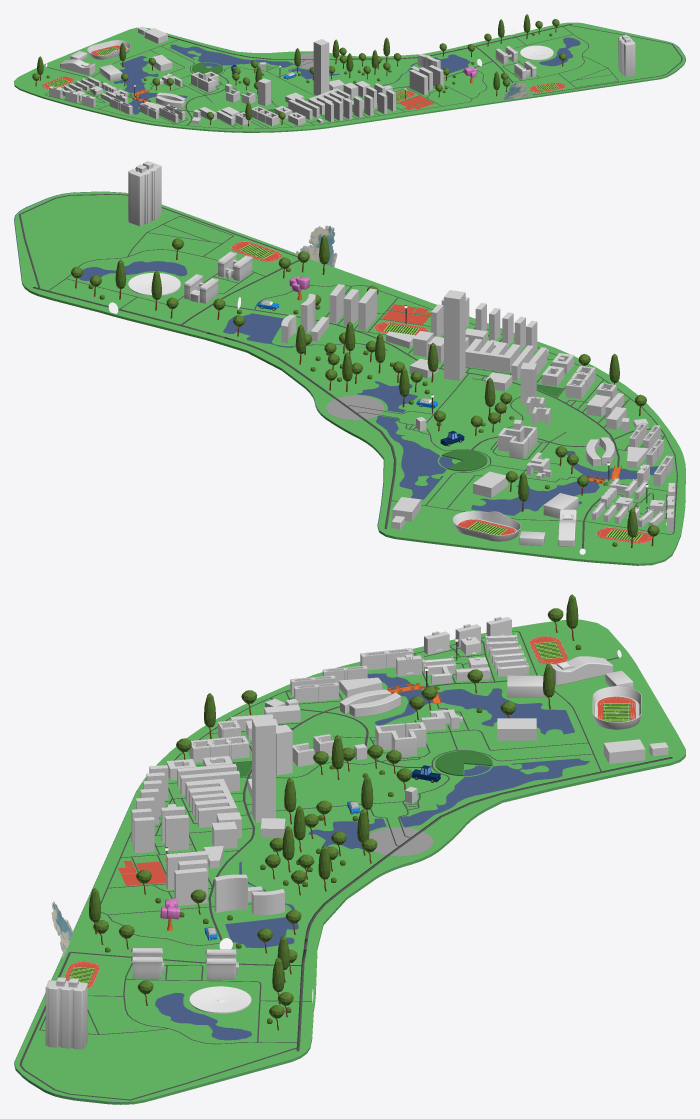
The model's file is map.glb.
The picture shows the model from 3 angles, top to bottom: view 1: azimuth 30°, elevation 25°; view 2: azimuth 150°, elevation 25°; view 3: azimuth 270°, elevation 25°; orthographic projection. The views are drawn at different scales.
Parts seen in each view (by area): view 1: grassFloor, grassFloor.001, map_2.osm_roads_service, 图书馆, 人才公寓1栋, map_2.osm_roads_residential, map_2.osm_roads_primary, 基础实验大楼, 白帆运动场, 月亮湖, 白求恩广场, 游泳馆 (+18 smaller); view 2: grassFloor, grassFloor.001, map_2.osm_roads_service, 人才公寓1栋, 图书馆, map_2.osm_roads_residential, 基础实验大楼, 白帆运动场, map_2.osm_roads_primary, 学府大道正门, 月亮湖, 白求恩广场 (+11 smaller); view 3: grassFloor, grassFloor.001, map_2.osm_roads_service, 人才公寓1栋, 图书馆, 基础实验大楼, map_2.osm_roads_residential, 月亮湖, map_2.osm_roads_primary, 学府大道正门, 白求恩广场, 慧源楼 (+19 smaller).
Boxes of the visible parts, left/top/right/bottom form: grassFloor: left=14, top=22, right=685, bottom=132; grassFloor.001: left=113, top=24, right=685, bottom=114; map_2.osm_roads_service: left=45, top=26, right=618, bottom=128; 图书馆: left=313, top=39, right=329, bottom=95; 人才公寓1栋: left=618, top=35, right=635, bottom=76; map_2.osm_roads_residential: left=47, top=25, right=682, bottom=125; map_2.osm_roads_primary: left=168, top=24, right=572, bottom=59; 基础实验大楼: left=308, top=88, right=350, bottom=114; 白帆运动场: left=87, top=40, right=130, bottom=59; 月亮湖: left=539, top=37, right=580, bottom=66; 白求恩广场: left=520, top=45, right=553, bottom=60; 游泳馆: left=60, top=59, right=95, bottom=75; grassFloor: left=14, top=191, right=685, bottom=565; grassFloor.001: left=14, top=191, right=658, bottom=530; map_2.osm_roads_service: left=48, top=216, right=677, bottom=534; 人才公寓1栋: left=128, top=161, right=161, bottom=226; 图书馆: left=444, top=290, right=465, bottom=380; map_2.osm_roads_residential: left=18, top=194, right=651, bottom=548; 基础实验大楼: left=465, top=337, right=520, bottom=372; 白帆运动场: left=452, top=511, right=521, bottom=541; map_2.osm_roads_primary: left=33, top=287, right=396, bottom=528; 学府大道正门: left=326, top=395, right=384, bottom=420; 月亮湖: left=79, top=261, right=187, bottom=281; 白求恩广场: left=128, top=273, right=180, bottom=295; grassFloor: left=14, top=619, right=685, bottom=1104; grassFloor.001: left=14, top=673, right=684, bottom=1102; map_2.osm_roads_service: left=39, top=631, right=601, bottom=1044; 人才公寓1栋: left=45, top=977, right=87, bottom=1049; 图书馆: left=252, top=717, right=275, bottom=822; 基础实验大楼: left=185, top=778, right=237, bottom=827; map_2.osm_roads_residential: left=19, top=657, right=618, bottom=1100; 月亮湖: left=155, top=993, right=251, bottom=1040; map_2.osm_roads_primary: left=296, top=757, right=672, bottom=1051; 学府大道正门: left=369, top=827, right=433, bottom=856; 白求恩广场: left=189, top=986, right=251, bottom=1013; 慧源楼: left=340, top=689, right=400, bottom=717.
Size of what is drawn, in the model's own units: 21.18 by 2.02 by 12.46.
41 materials, 5 textured.
